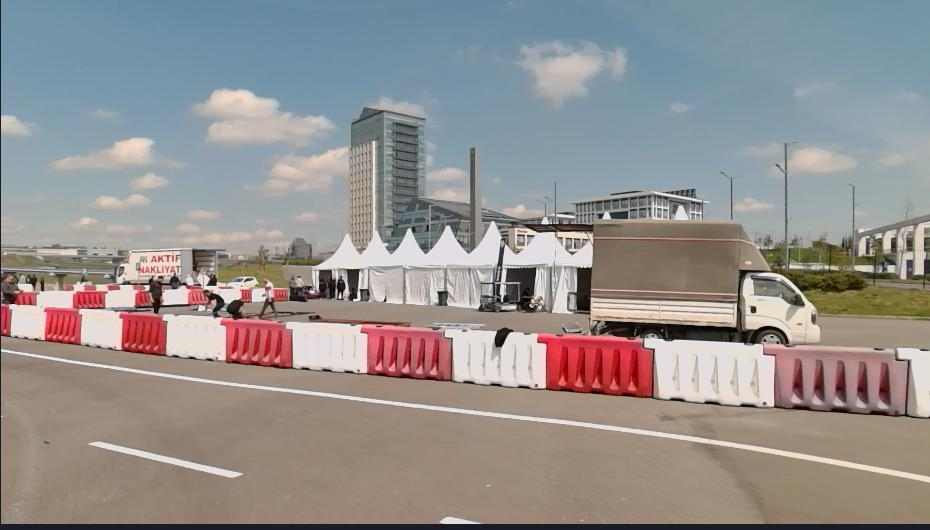nesne: (2, 346, 928, 528), (0, 345, 930, 526), (0, 348, 929, 485), (0, 304, 926, 416), (0, 348, 470, 527), (519, 223, 819, 341), (771, 348, 909, 416), (654, 341, 774, 410), (547, 335, 654, 397), (90, 438, 242, 478), (453, 330, 548, 390), (364, 327, 448, 380), (116, 247, 224, 284), (291, 323, 365, 371), (224, 319, 291, 368), (165, 313, 226, 363), (479, 236, 521, 308), (121, 313, 166, 354), (80, 311, 123, 348), (908, 348, 928, 416), (41, 309, 80, 342), (7, 305, 44, 338), (258, 275, 279, 318), (73, 288, 106, 310), (0, 272, 23, 303), (145, 274, 164, 311), (202, 287, 226, 315), (489, 324, 515, 349), (105, 292, 135, 312), (39, 290, 74, 307), (223, 294, 246, 318), (227, 274, 259, 287), (288, 273, 303, 298), (164, 290, 188, 305), (441, 514, 475, 524), (217, 287, 237, 303), (186, 288, 206, 303), (326, 272, 338, 296), (337, 272, 348, 297), (0, 306, 9, 336), (315, 272, 325, 297), (21, 290, 36, 306), (168, 271, 180, 290), (134, 291, 149, 306), (253, 289, 266, 303), (183, 271, 194, 287), (242, 290, 253, 302)
